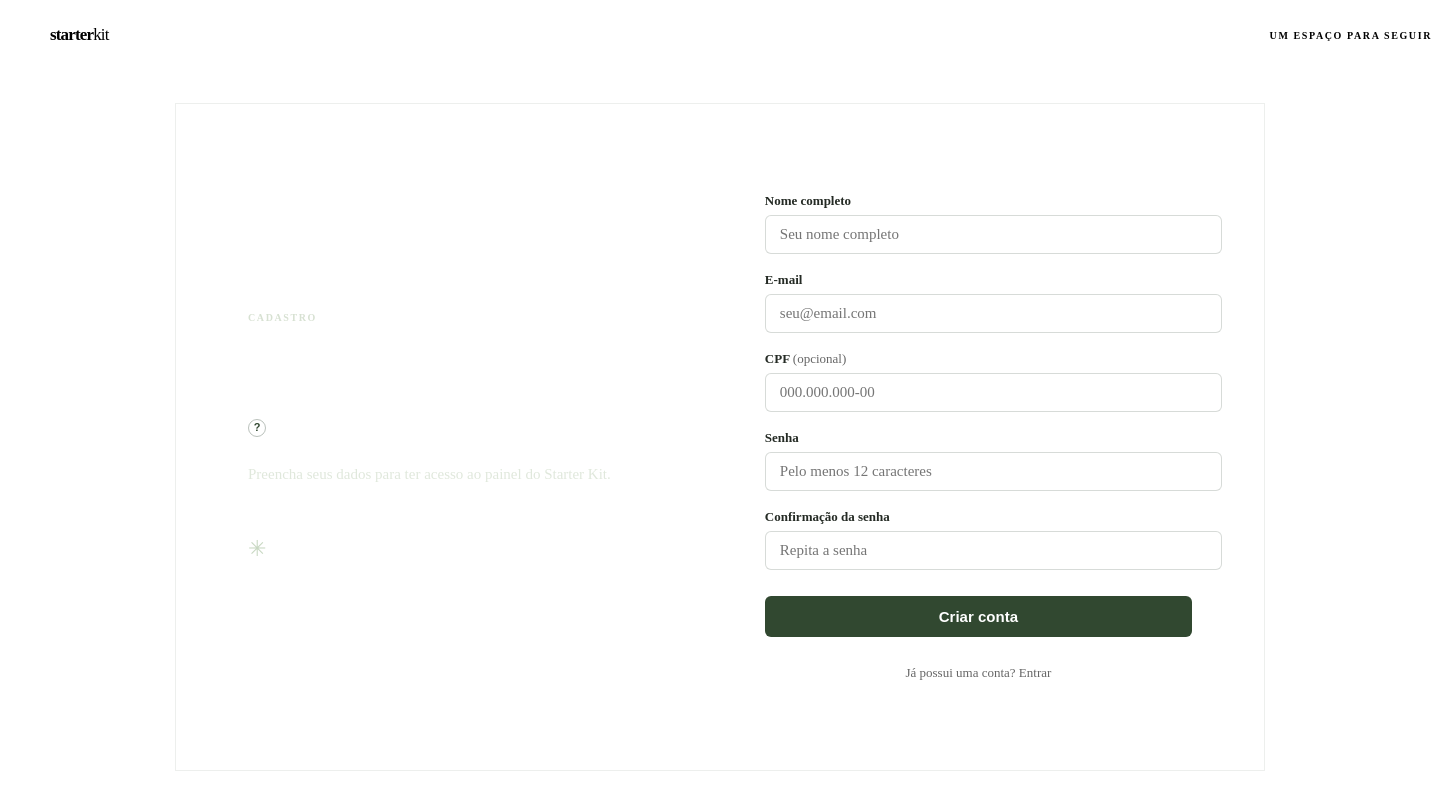
Test: RegisterPage.vue › validates CPF check digits if CPF is provided
The image size is (1440, 810).
Type "Carlos" into the field with id "register-name".
click(993, 234); type("Carlos")  # box [765, 214, 1222, 254]
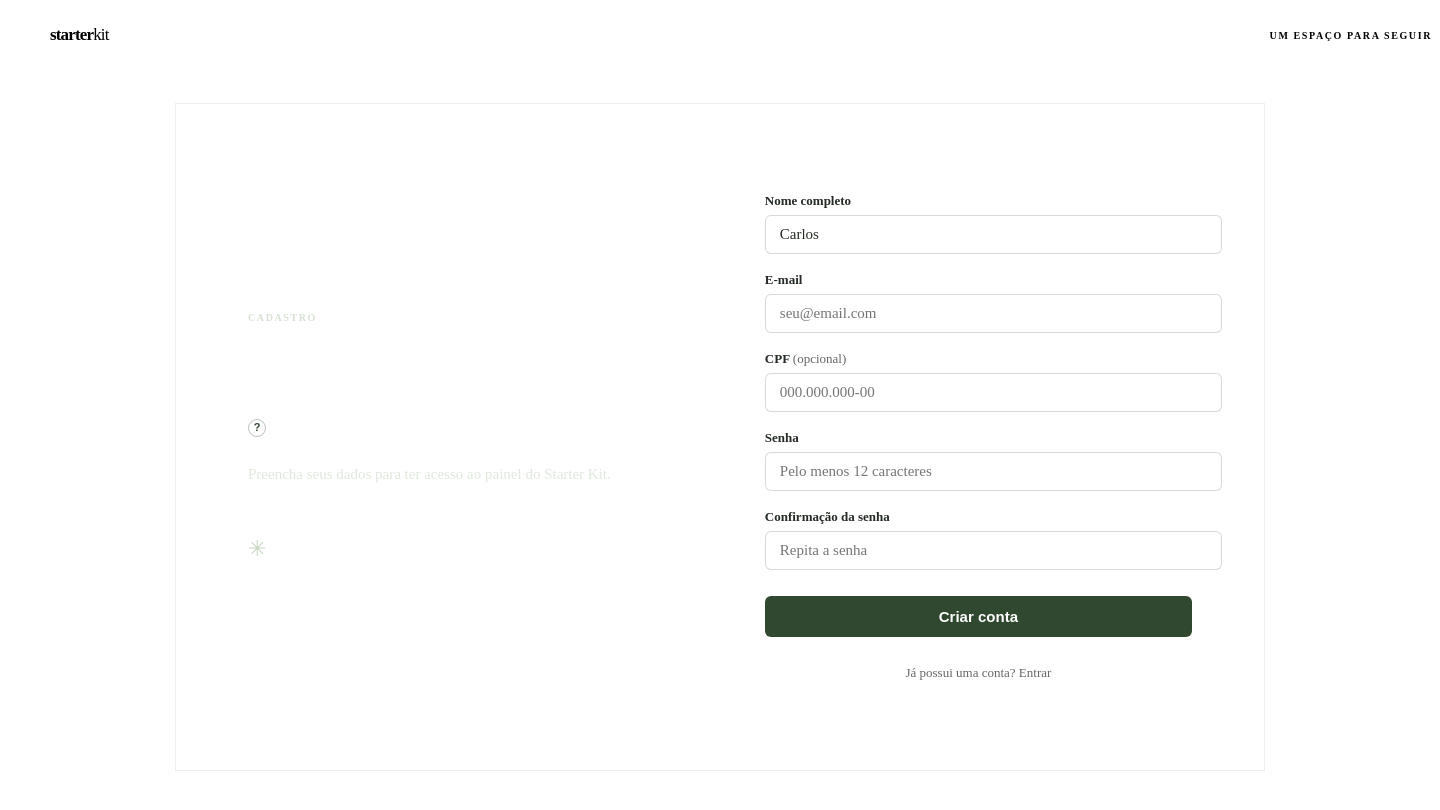
Type "carlos@example.com" into the field with id "register-email".
click(993, 313); type("carlos@example.com")  # box [765, 294, 1222, 332]
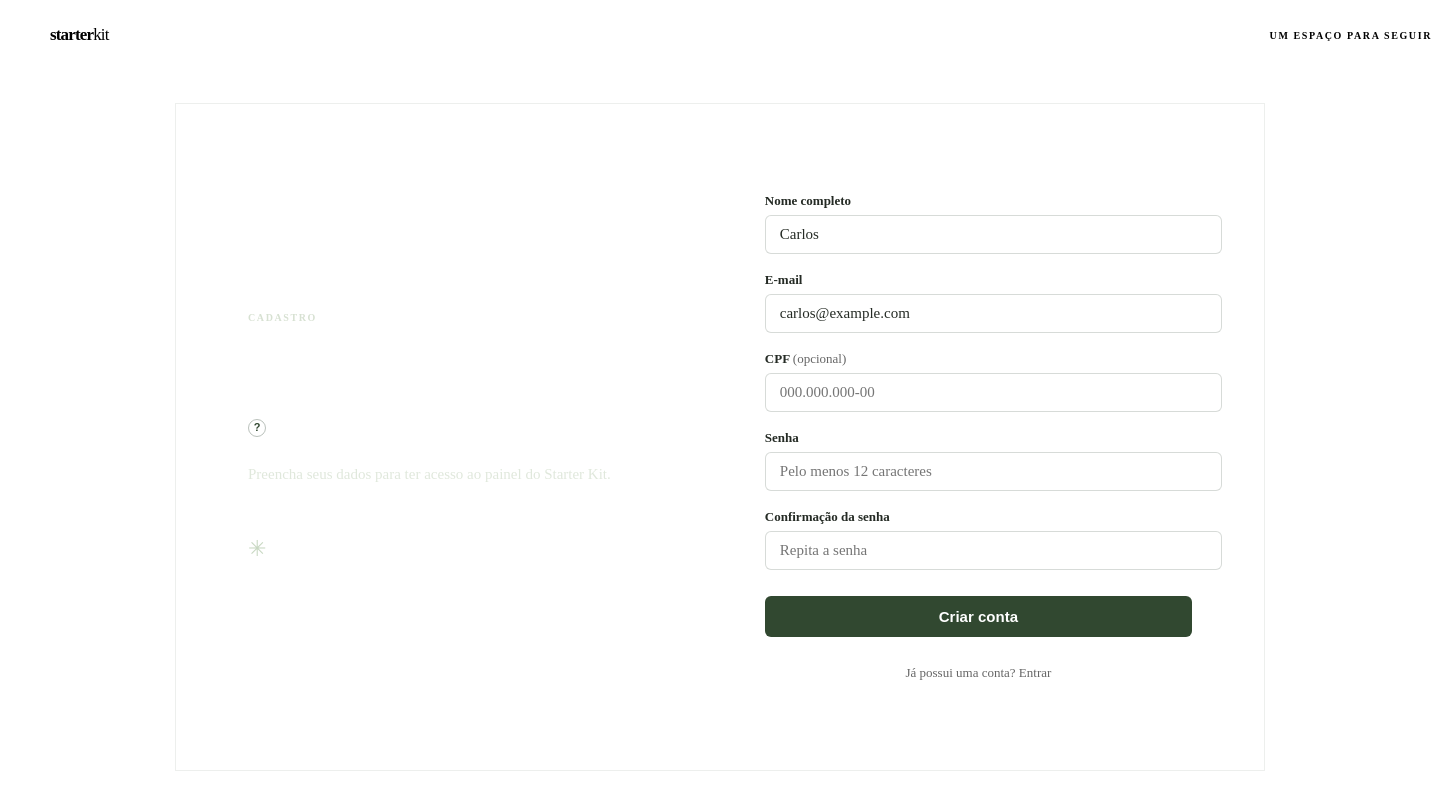
Type "11111111111" into the field with id "register-cpf".
click(993, 392); type("11111111111")  # box [765, 372, 1222, 412]
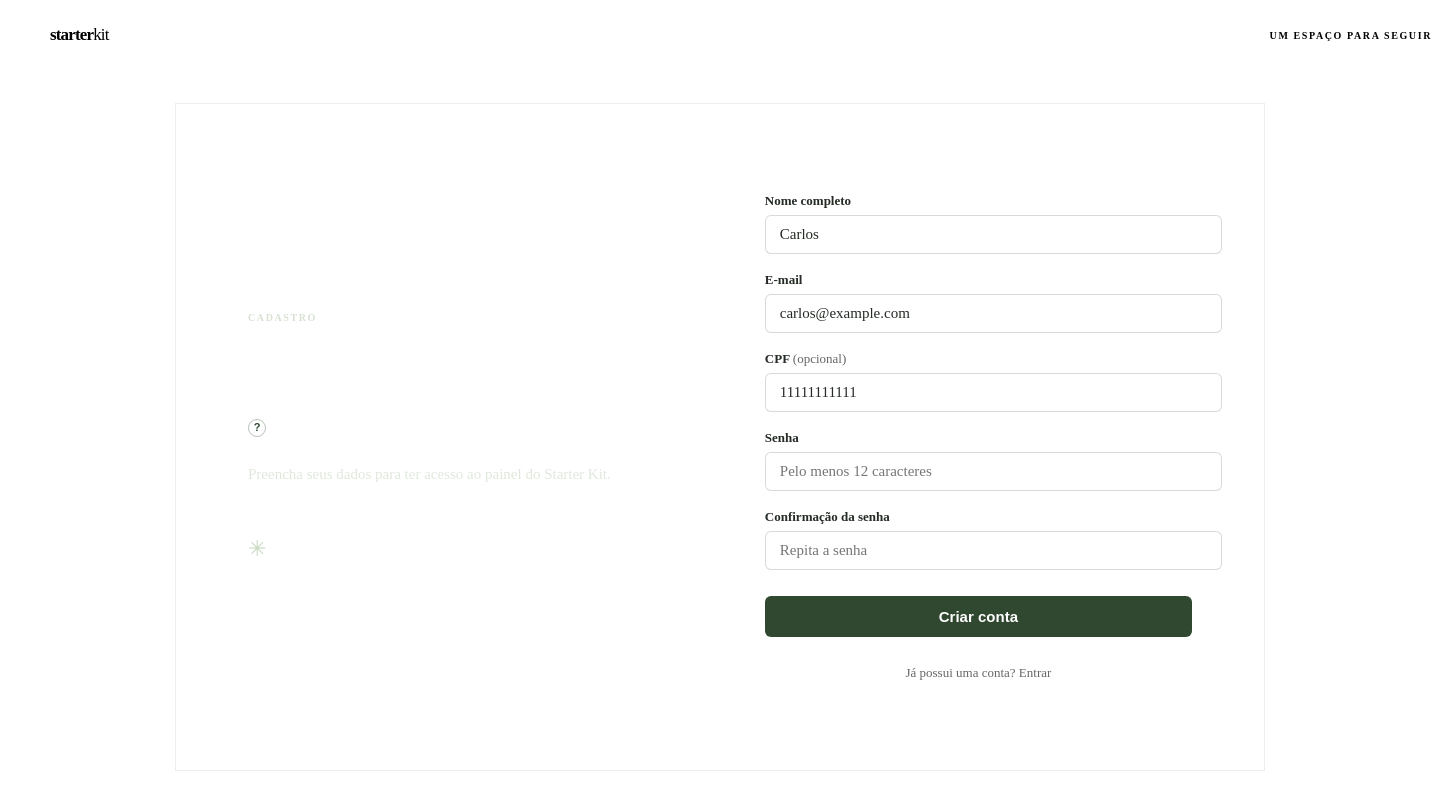
Type "password12345" into the password field with id "register-password".
click(993, 471); type("password12345")  # box [765, 452, 1222, 490]
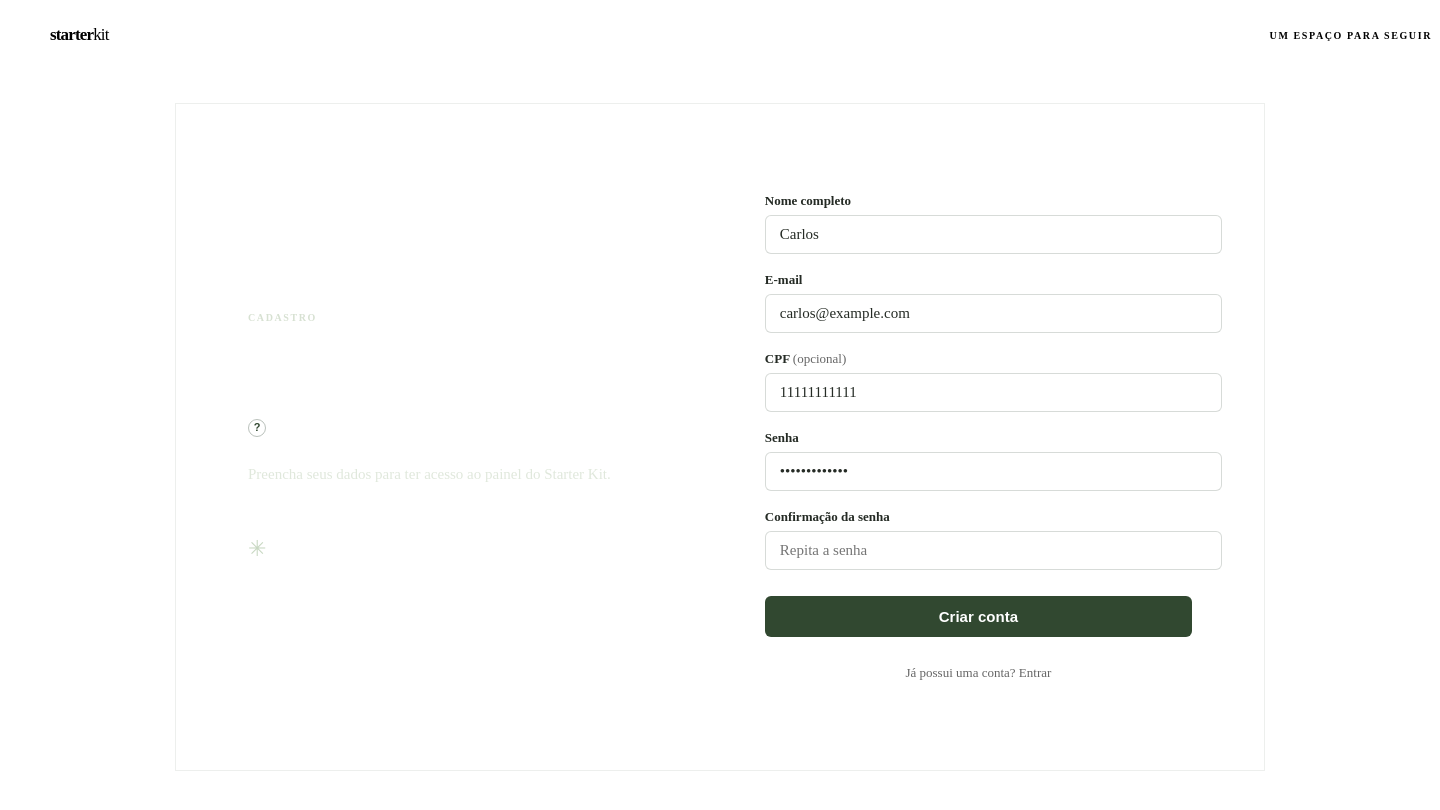
Type "password12345" into the password field with id "register-password-confirmation".
click(993, 550); type("password12345")  # box [765, 530, 1222, 570]
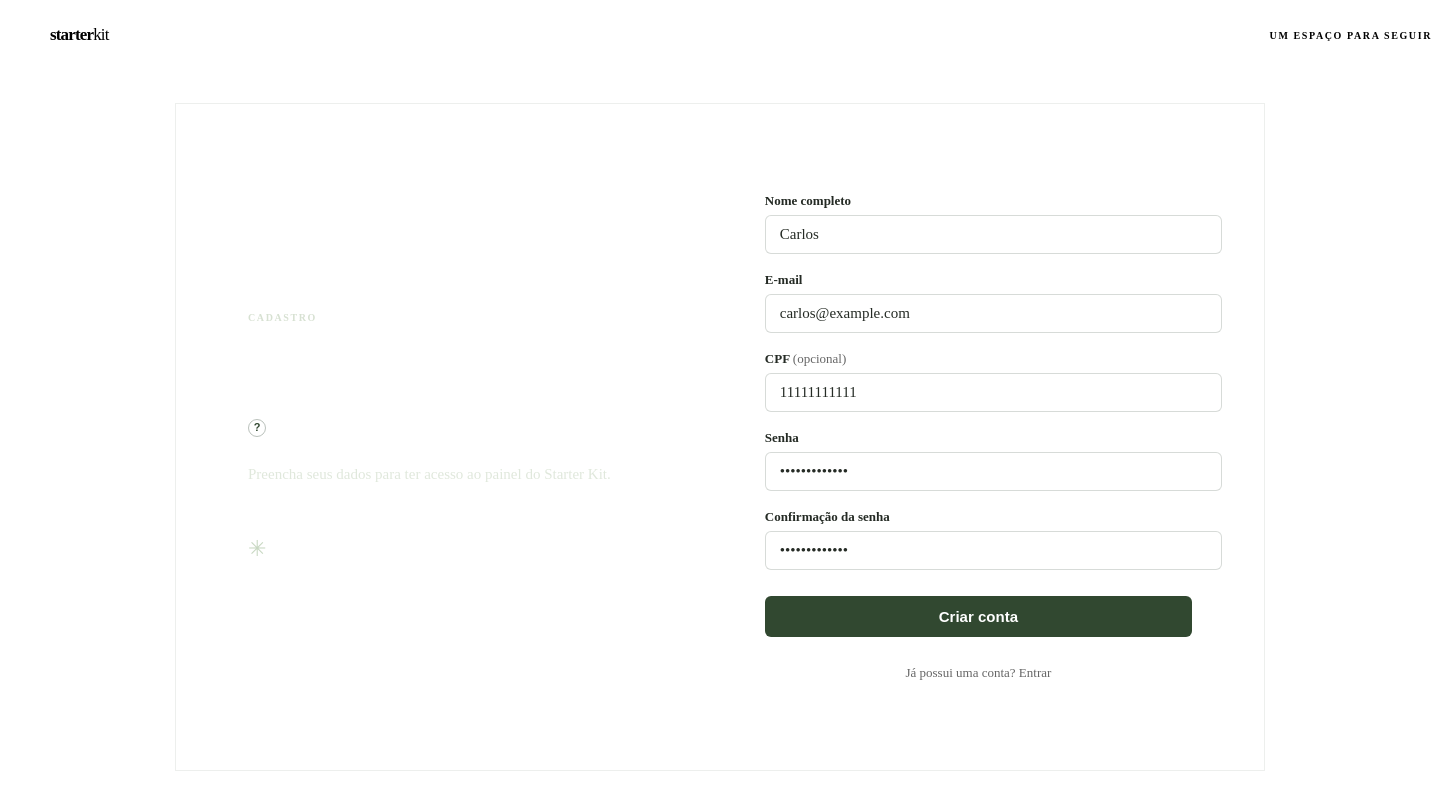
Submit the form, box [765, 192, 1192, 680]
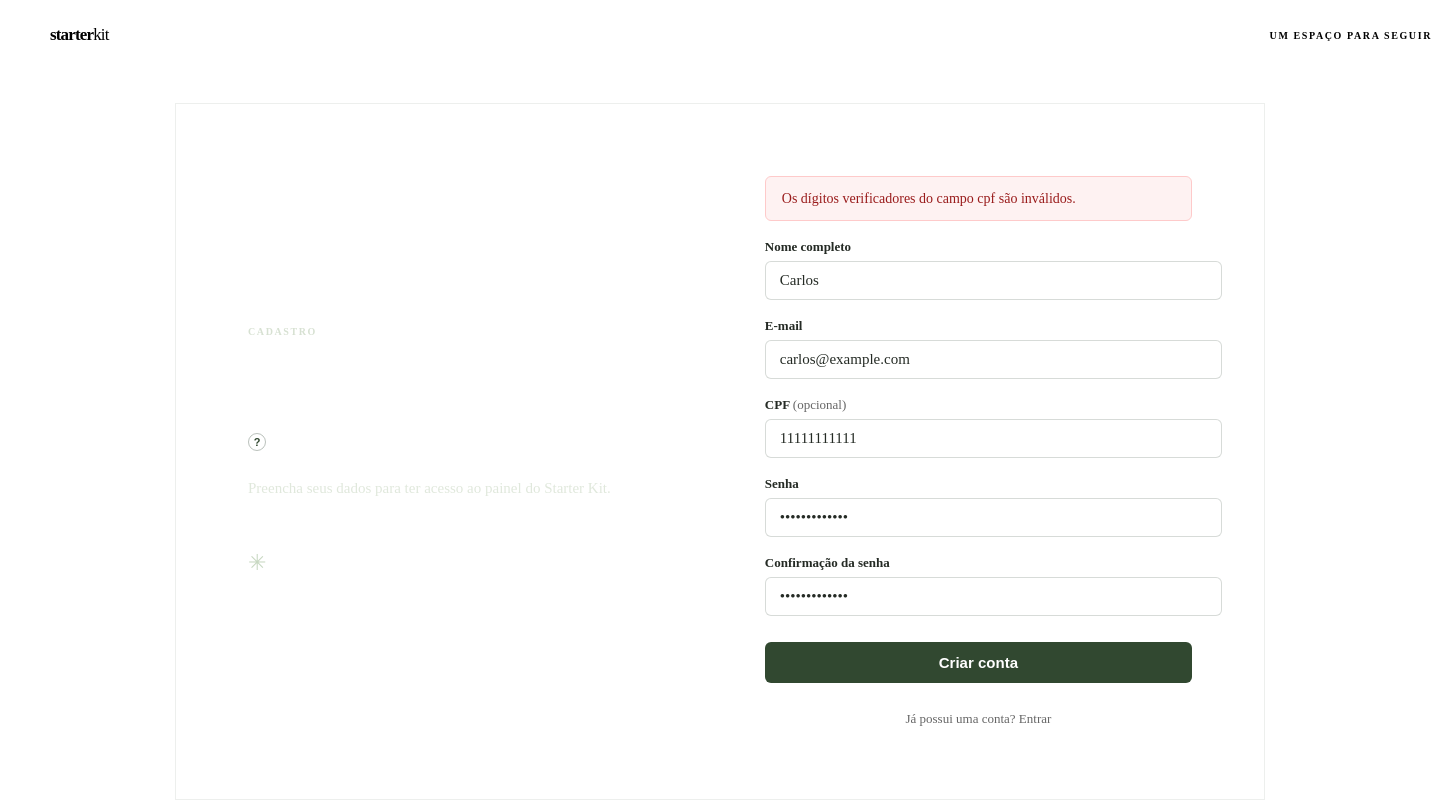
Now the message "Os dígitos verificadores do campo cpf são inválidos." is shown, box [765, 176, 1192, 221]
